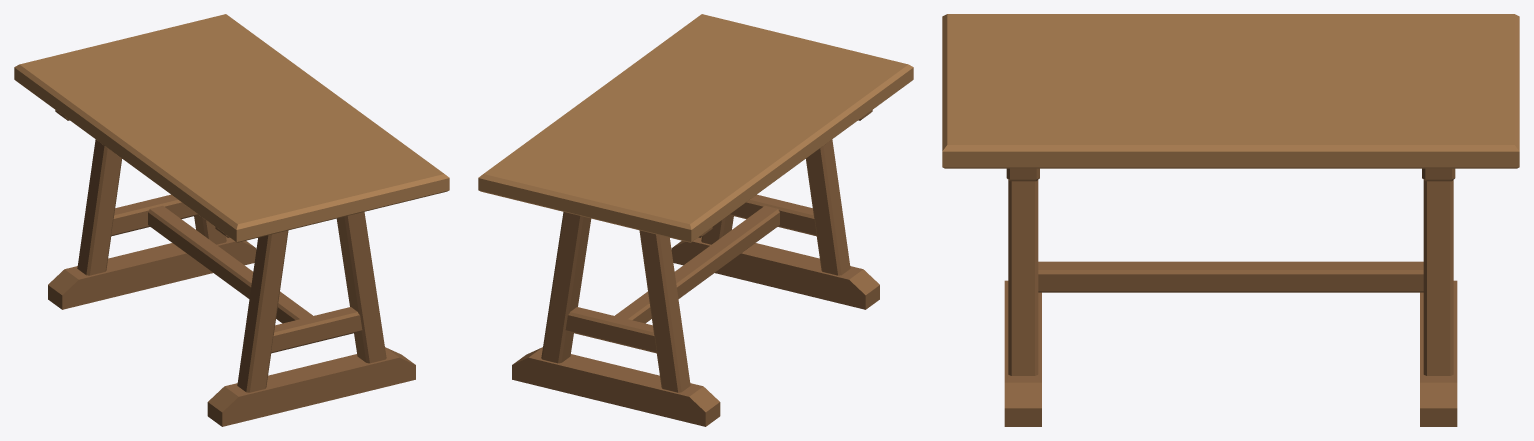
The model's file is mdvl_interiors_table_01.glb.
3 renders of one model, left to right at view 1: azimuth 30°, elevation 25°; view 2: azimuth 150°, elevation 25°; view 3: azimuth 270°, elevation 25°, orthographic. The views are drawn at different scales.
Visible parts, largest first — view 1: mdvl_interiors_table_01; view 2: mdvl_interiors_table_01; view 3: mdvl_interiors_table_01.
Boxes of the visible parts, x1,y1,x2,y2 form: mdvl_interiors_table_01: (14, 14, 449, 426); mdvl_interiors_table_01: (478, 14, 913, 426); mdvl_interiors_table_01: (942, 14, 1519, 426).
Size of the model in its own units: 0.77 by 0.76 by 1.39.
Materials: 1 (1 with a texture image).
